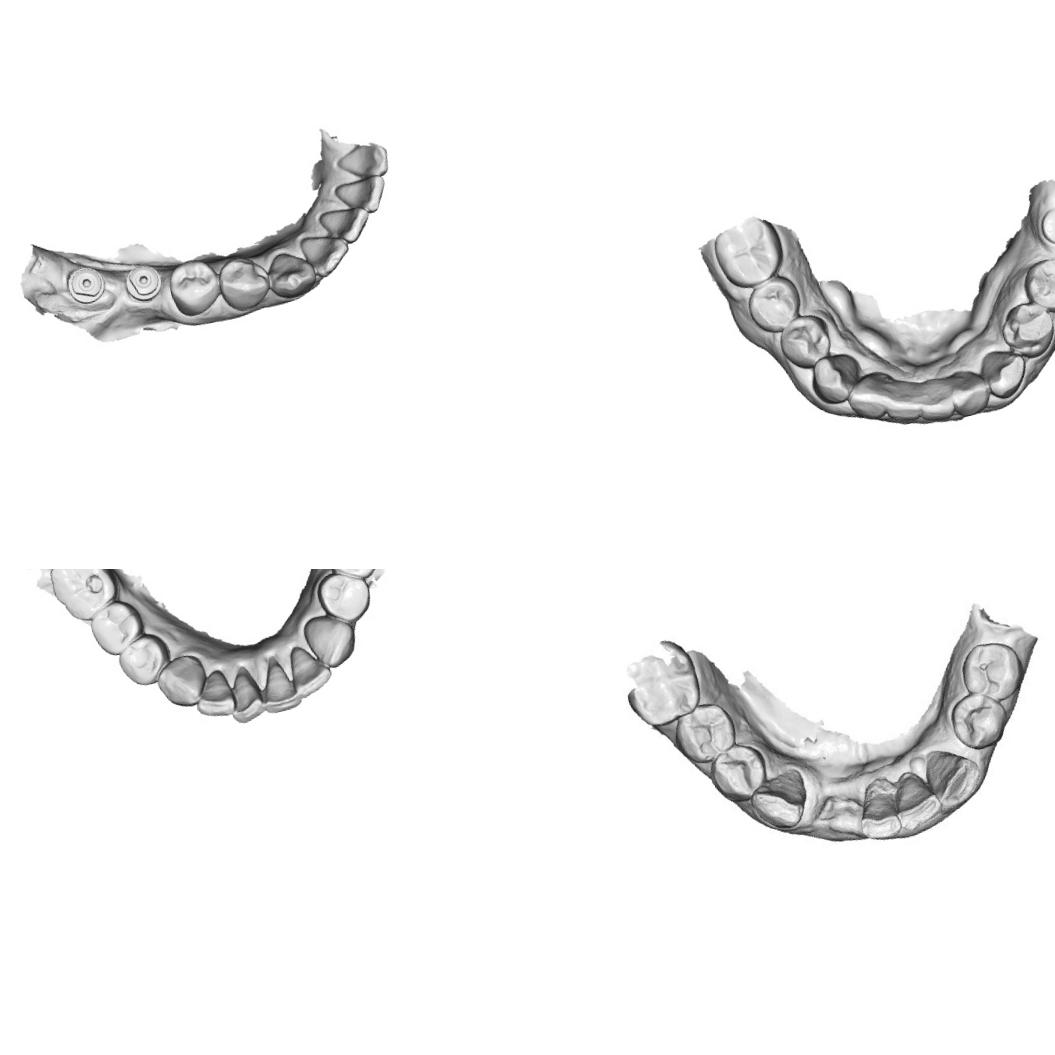canine: (918, 739, 990, 815), (151, 648, 215, 714), (299, 607, 362, 674), (748, 771, 809, 836), (804, 345, 864, 410), (974, 342, 1035, 405), (260, 246, 321, 302)
implant: (61, 261, 110, 308), (120, 259, 166, 306), (1035, 197, 1055, 252)
incisor: (846, 769, 908, 846), (888, 768, 950, 838), (940, 358, 996, 422), (254, 650, 306, 718), (874, 362, 926, 428), (221, 664, 274, 728), (284, 638, 336, 702), (187, 664, 242, 724), (909, 364, 962, 426), (331, 136, 394, 187), (297, 226, 355, 281), (330, 169, 391, 221), (839, 371, 893, 426), (316, 201, 374, 250)
molar: (614, 635, 706, 728), (710, 218, 790, 296), (43, 569, 125, 628)
premolar: (953, 635, 1029, 708), (666, 701, 739, 769), (740, 267, 808, 339), (992, 292, 1055, 366), (771, 308, 839, 375), (84, 594, 151, 661), (163, 253, 227, 321), (948, 686, 1012, 754), (112, 627, 178, 692), (704, 742, 769, 807), (212, 250, 276, 316), (310, 569, 378, 631), (1016, 250, 1055, 321), (319, 569, 388, 588)
